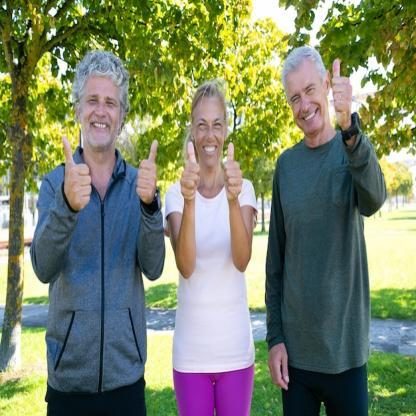thumb_up: (58, 133, 96, 212), (134, 138, 162, 206), (330, 54, 355, 122), (179, 139, 204, 203), (222, 140, 244, 202)
